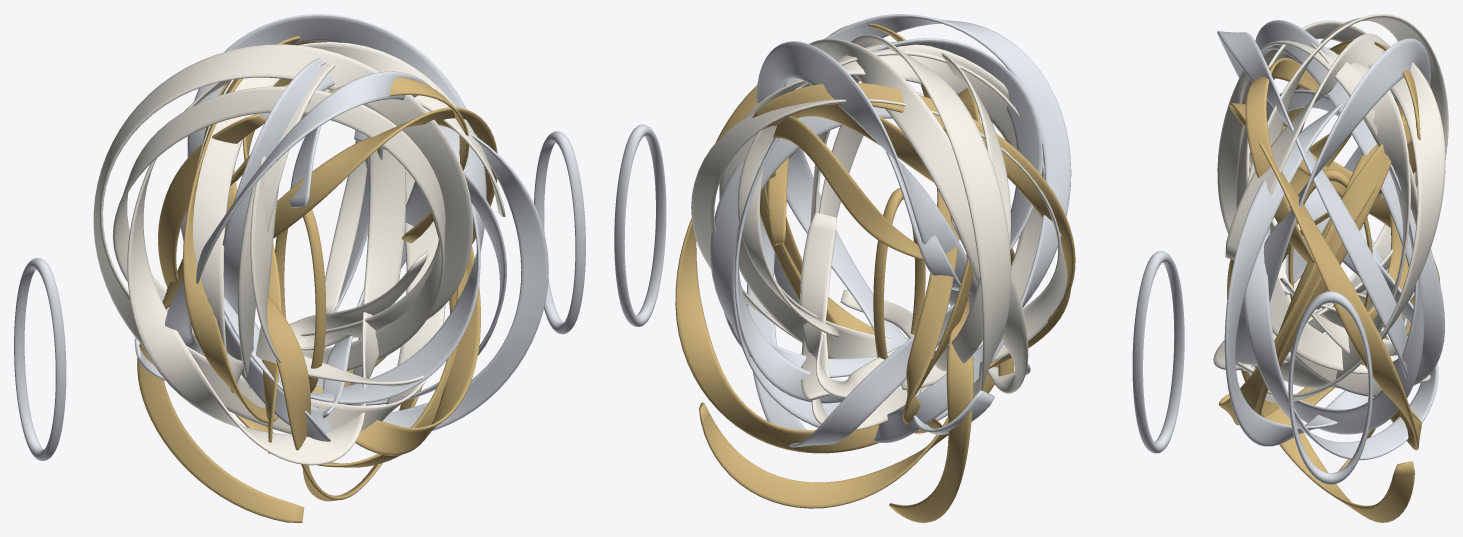
Rendered from ventura-flow.glb.
3 views of the same model, side by side, from view 1: azimuth 30°, elevation 25°; view 2: azimuth 150°, elevation 25°; view 3: azimuth 270°, elevation 25° (orthographic). The views are drawn at different scales.
Visible parts, largest first — view 1: Ribbon_03, Ribbon_09, Ribbon_06, Ribbon_08, Ribbon_04, Ribbon_05, Ribbon_07, Ribbon_02, Ribbon_01, Clasp_01, Clasp_03, Clasp_02; view 2: Ribbon_09, Ribbon_03, Ribbon_04, Ribbon_05, Ribbon_02, Ribbon_08, Ribbon_06, Ribbon_01, Ribbon_07, Clasp_01, Clasp_03, Clasp_02; view 3: Ribbon_08, Ribbon_02, Ribbon_03, Ribbon_09, Ribbon_05, Ribbon_04, Ribbon_07, Ribbon_01, Ribbon_06, Clasp_03, Clasp_02.
Part boxes in pixels (x1,y1,x2,y2): Ribbon_03: (93,44,473,434); Ribbon_09: (127,42,505,465); Ribbon_06: (112,63,445,388); Ribbon_08: (164,71,548,430); Ribbon_04: (137,36,497,522); Ribbon_05: (134,14,486,441); Ribbon_07: (158,78,480,501); Ribbon_02: (180,58,506,433); Ribbon_01: (177,77,469,467); Clasp_01: (14,258,66,460); Clasp_03: (534,131,585,334); Clasp_02: (275,209,326,392); Ribbon_09: (719,39,1044,397); Ribbon_03: (691,35,1067,400); Ribbon_04: (675,82,1075,522); Ribbon_05: (710,41,994,434); Ribbon_02: (734,38,1042,447); Ribbon_08: (723,14,1071,442); Ribbon_06: (737,41,1044,430); Ribbon_01: (760,23,1014,433); Ribbon_07: (699,87,1014,508); Clasp_01: (1132,251,1184,453); Clasp_03: (614,124,666,326); Clasp_02: (873,188,925,359); Ribbon_08: (1217,31,1411,446); Ribbon_02: (1244,20,1444,460); Ribbon_03: (1246,14,1448,402); Ribbon_09: (1213,33,1410,387); Ribbon_05: (1235,38,1430,434); Ribbon_04: (1229,39,1421,470); Ribbon_07: (1219,98,1414,522); Ribbon_01: (1245,57,1440,425); Ribbon_06: (1236,20,1430,396); Clasp_03: (1288,291,1373,484); Clasp_02: (1288,169,1372,311).
Size of the model in its own units: 5.51 by 4.72 by 2.21.
